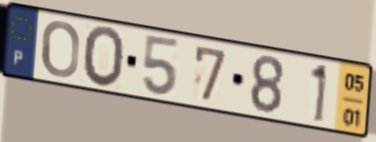1: (308, 63, 330, 126)
5: (141, 34, 182, 99)
7: (192, 44, 227, 103)
8: (248, 53, 286, 116)
O: (82, 24, 127, 91), (40, 18, 81, 79)
